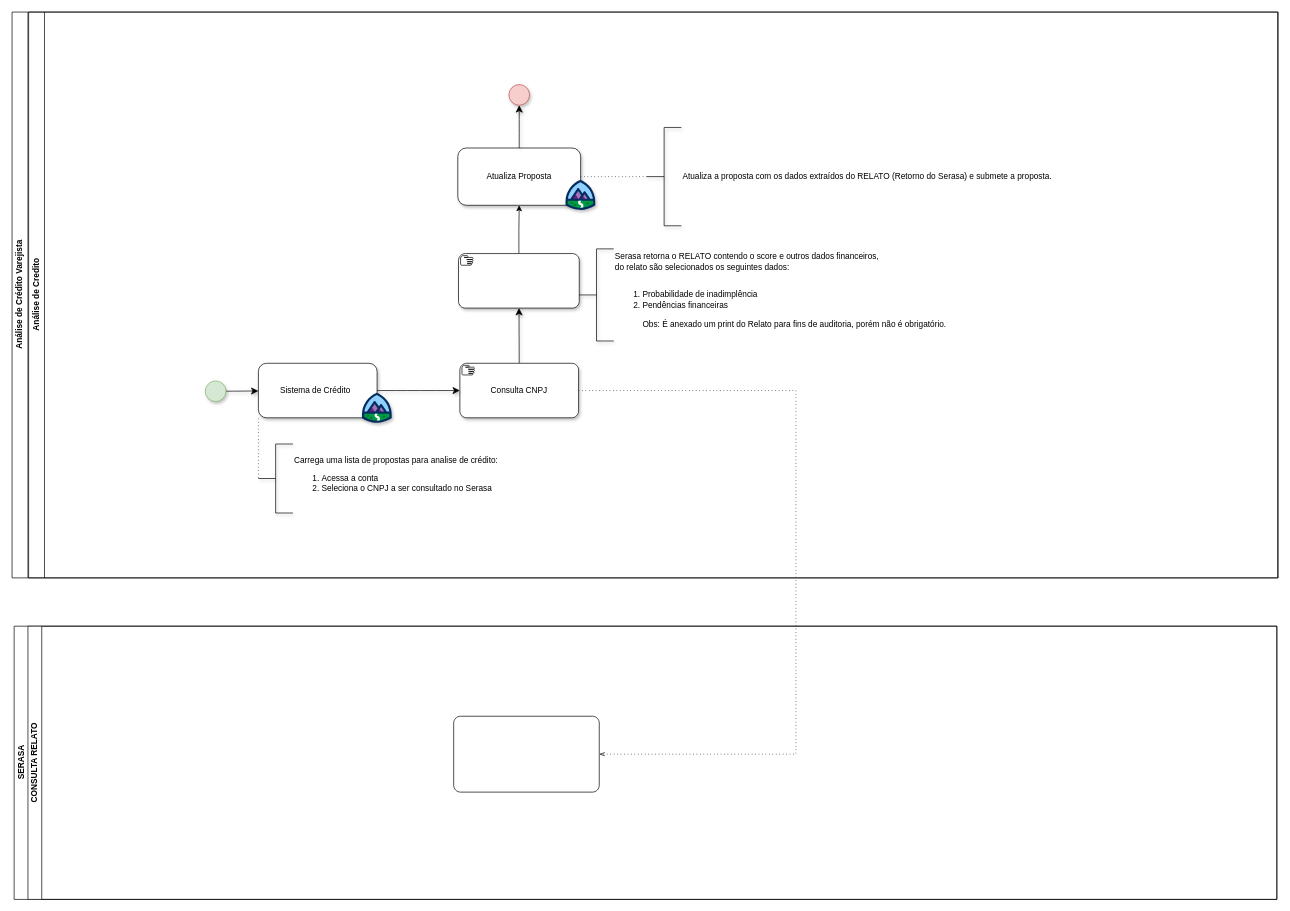
The diagram is 1290 pixels wide and 911 high, and some of its shapes have lost their labels. The centre of each missing label's shape, as x and y in pixels:
"Analisa Retorno Serasa" belongs at point 519,281.
"Serasa Consulta WEB" belongs at point 526,754.
